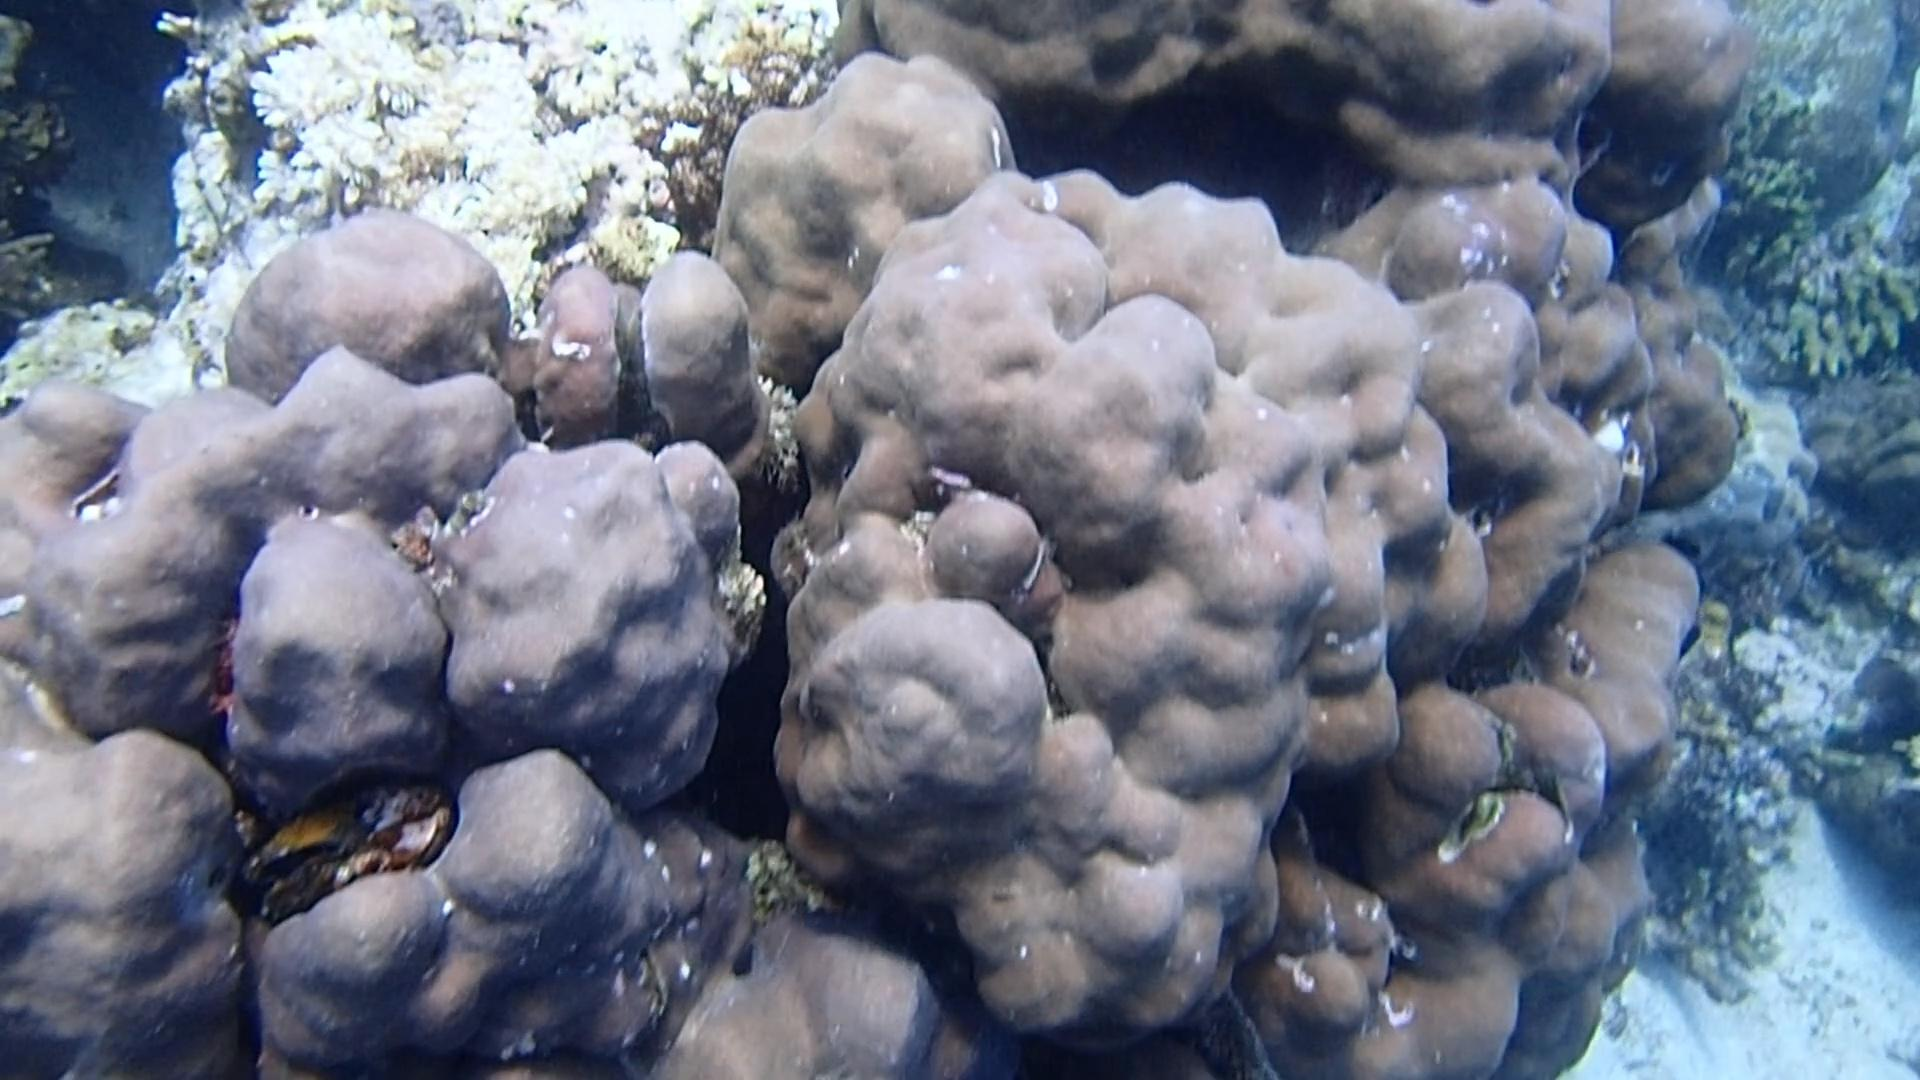Dark Fish: (1646, 522, 1713, 572)
